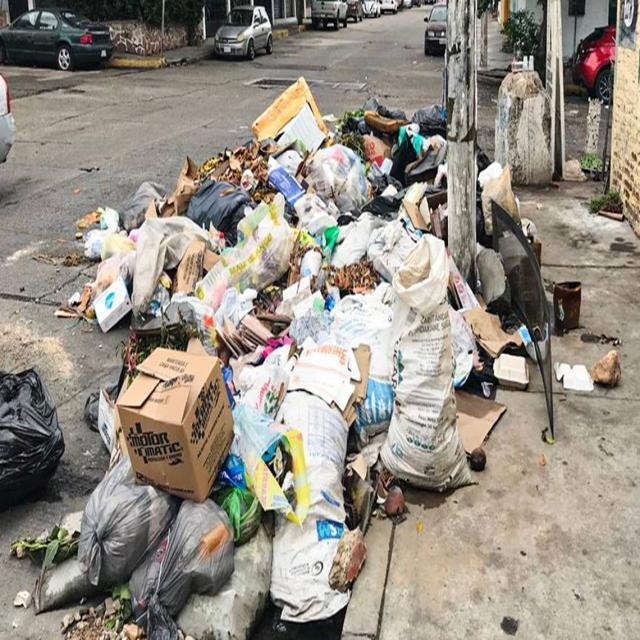Trashbag: (0, 366, 67, 522), (181, 177, 261, 243), (413, 90, 458, 140)
